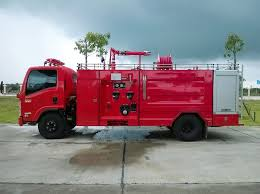truck: (18, 61, 243, 139)
